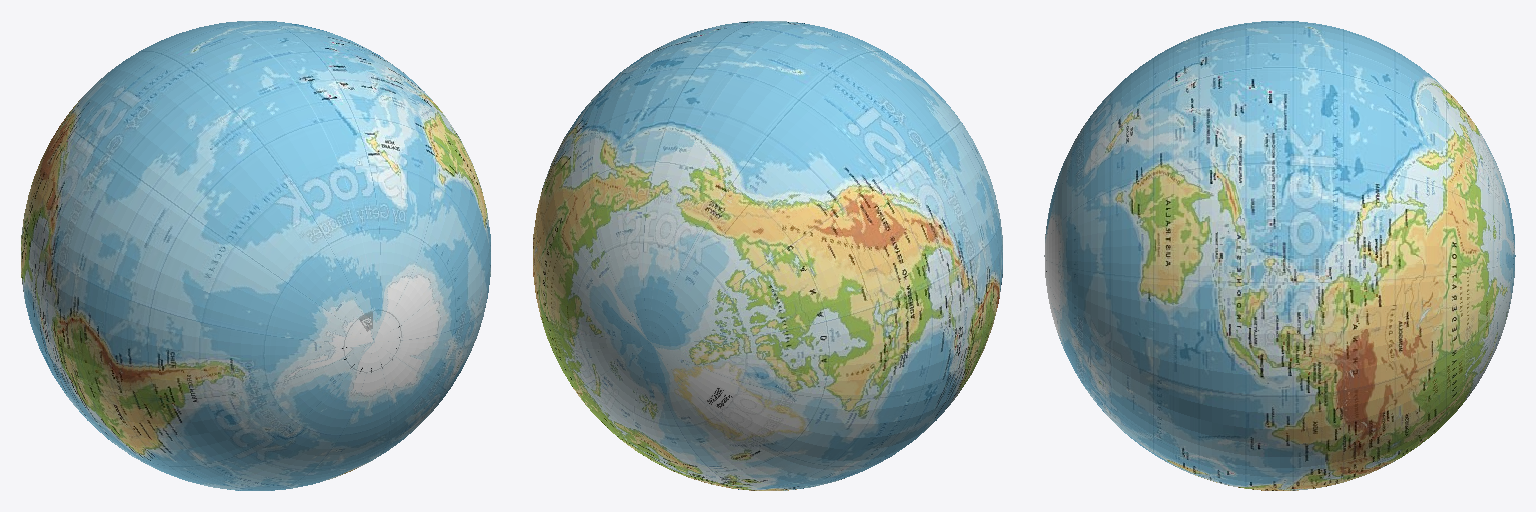
3 views of the same model, side by side, from view 1: azimuth 30°, elevation 25°; view 2: azimuth 150°, elevation 25°; view 3: azimuth 270°, elevation 25° (orthographic).
Visible parts, largest first — view 1: Plane_Plane.001; view 2: Plane_Plane.001; view 3: Plane_Plane.001.
Boxes of the visible parts, <box> form: Plane_Plane.001: <box>21,21,490,490</box>; Plane_Plane.001: <box>533,21,1002,490</box>; Plane_Plane.001: <box>1044,21,1515,490</box>.
Bounding box in the file's own units: 1.27 × 1.27 × 1.27.
Materials: 1 (1 with a texture image).